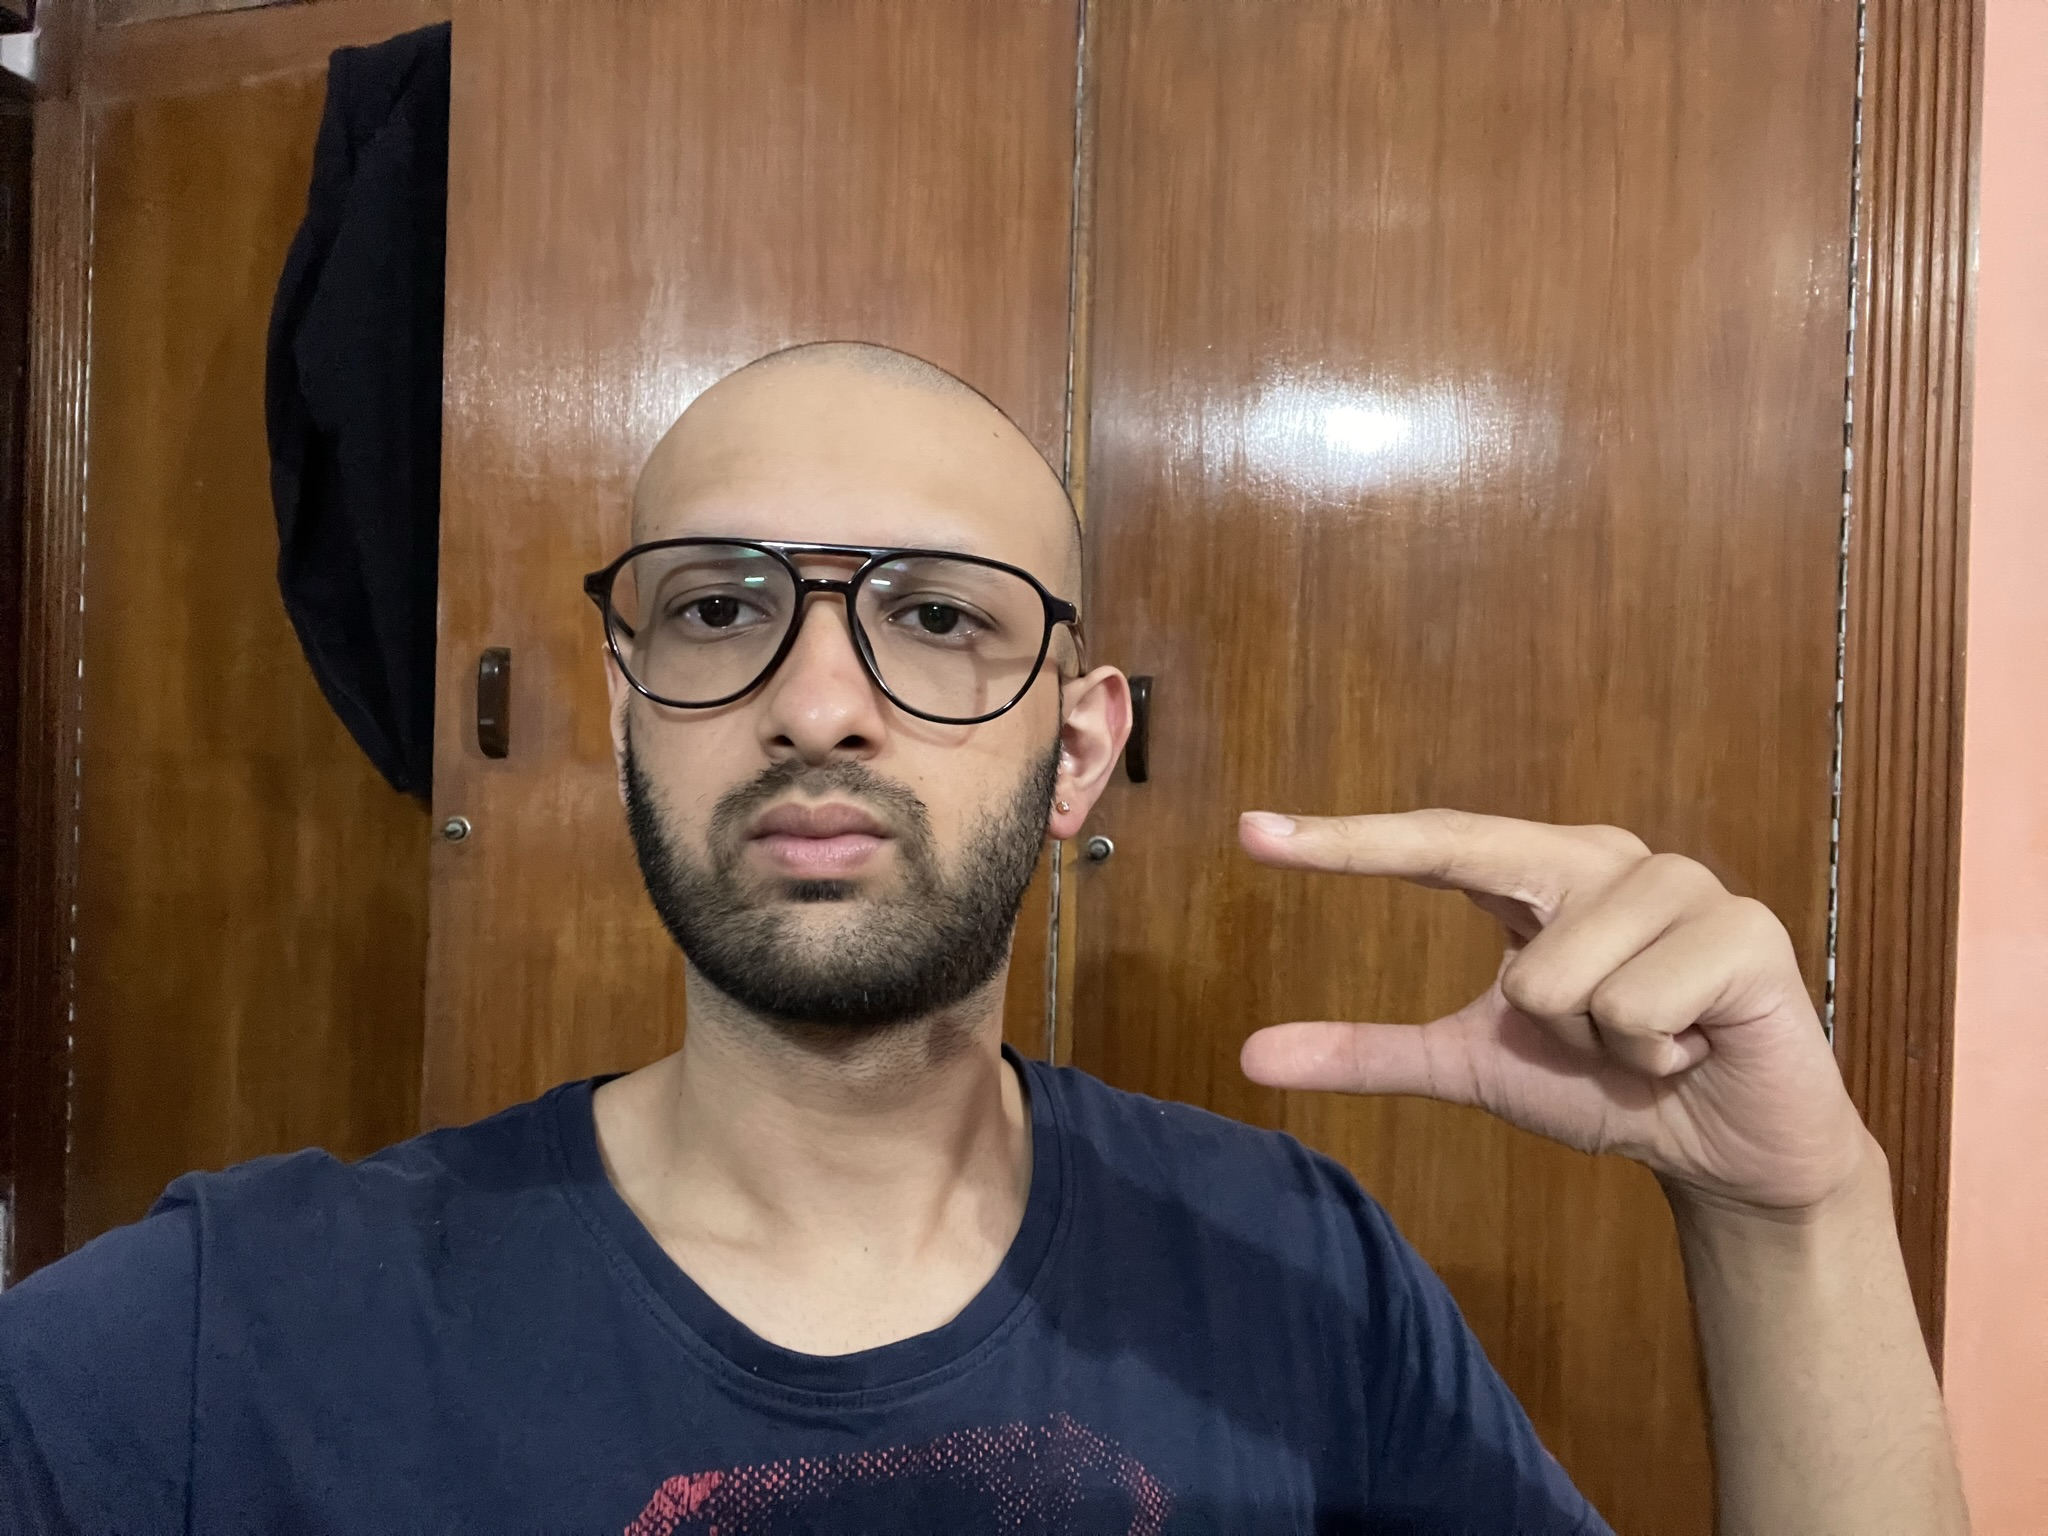No: (1222, 792, 1888, 1205)
